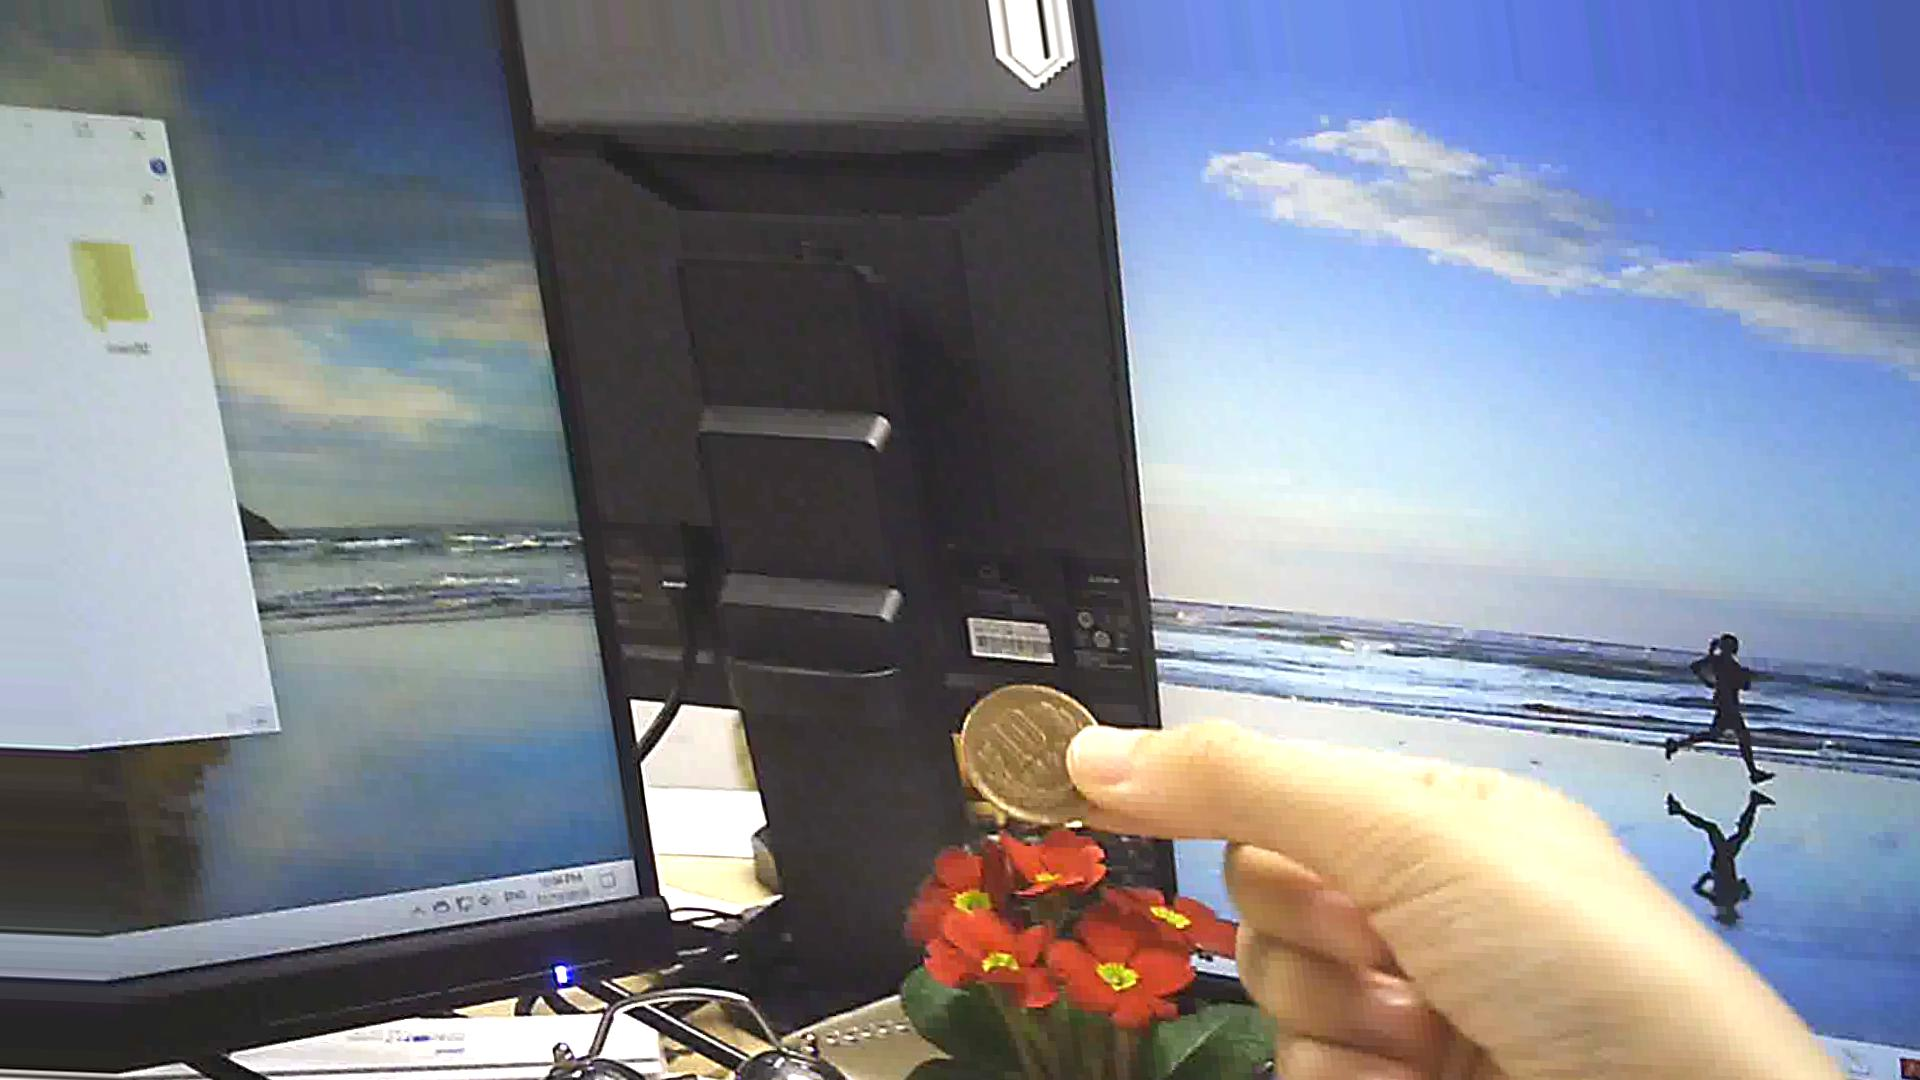10 Yen: (960, 674, 1112, 827)
